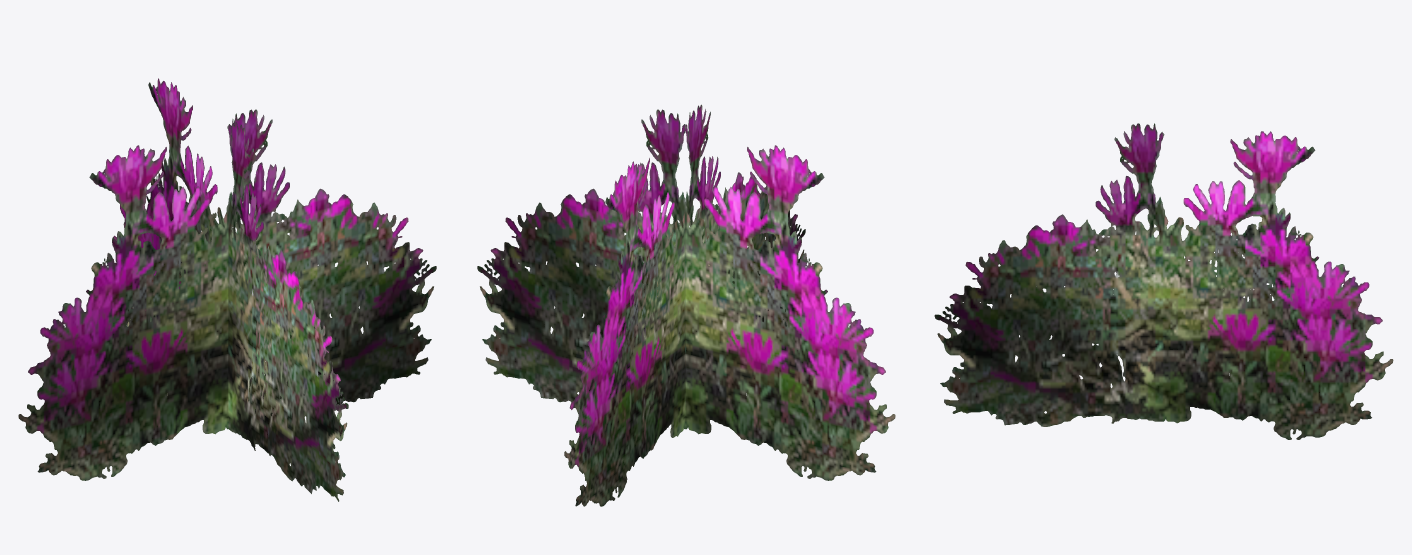
File: flow_iceplantflowers_l1.fbx
3 renders of one model, left to right at view 1: azimuth 30°, elevation 25°; view 2: azimuth 150°, elevation 25°; view 3: azimuth 270°, elevation 25°, orthographic. The views are drawn at different scales.
Parts seen in each view (by area): view 1: mesh_node; view 2: mesh_node; view 3: mesh_node.
Boxes of the visible parts, x1,y1,x2,y2 form: mesh_node: [18, 78, 436, 501]; mesh_node: [477, 104, 895, 506]; mesh_node: [934, 123, 1393, 439].
Size of the model in its own units: 1.06 by 0.8174 by 1.06.
Materials: 1 (1 with a texture image).
